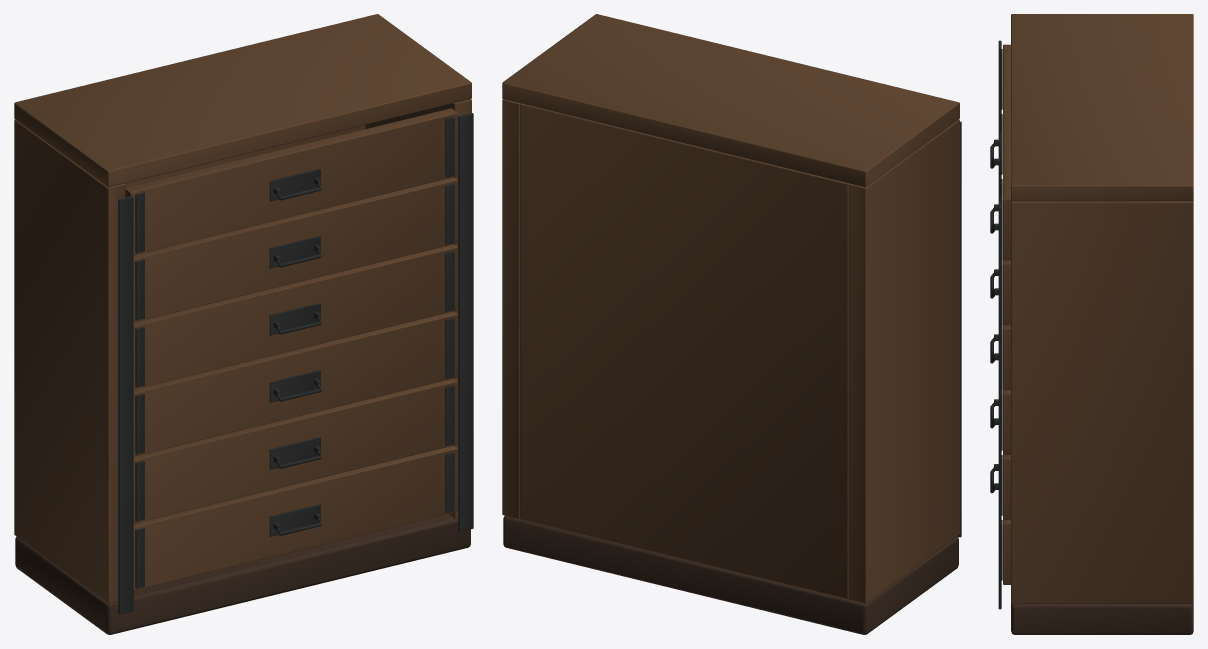
File: kominka-tansu-01.glb
The picture shows the model from 3 angles, left to right: view 1: azimuth 30°, elevation 25°; view 2: azimuth 150°, elevation 25°; view 3: azimuth 270°, elevation 25°; orthographic projection. The views are drawn at different scales.
Parts seen in each view (by area): view 1: kominka-tansu-01; view 2: kominka-tansu-01; view 3: kominka-tansu-01.
Boxes of the visible parts, bbox=[...] form: kominka-tansu-01: bbox=[14, 14, 473, 634]; kominka-tansu-01: bbox=[502, 14, 961, 634]; kominka-tansu-01: bbox=[990, 14, 1193, 634].
Size of the model in its own units: 0.9 by 1.1 by 0.45.
